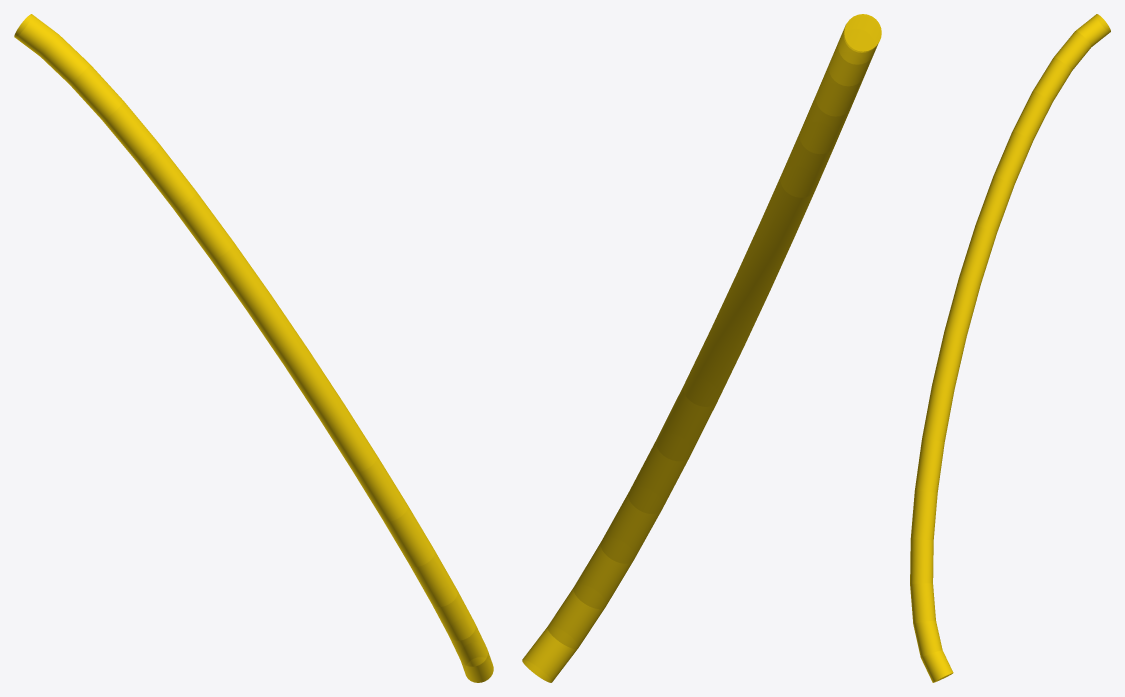
The model's file is Event_421115418_track_170.fbx.
3 views of the same model, side by side, from view 1: azimuth 30°, elevation 25°; view 2: azimuth 150°, elevation 25°; view 3: azimuth 270°, elevation 25° (orthographic). The views are drawn at different scales.
Parts seen in each view (by area): view 1: Model; view 2: Model; view 3: Model.
Boxes of the visible parts, left/top/right/bottom form: Model: left=14, top=14, right=493, bottom=682; Model: left=522, top=14, right=881, bottom=682; Model: left=910, top=14, right=1110, bottom=682.
Size of the model in its own units: 0.5961 by 1.02 by 0.3485.
